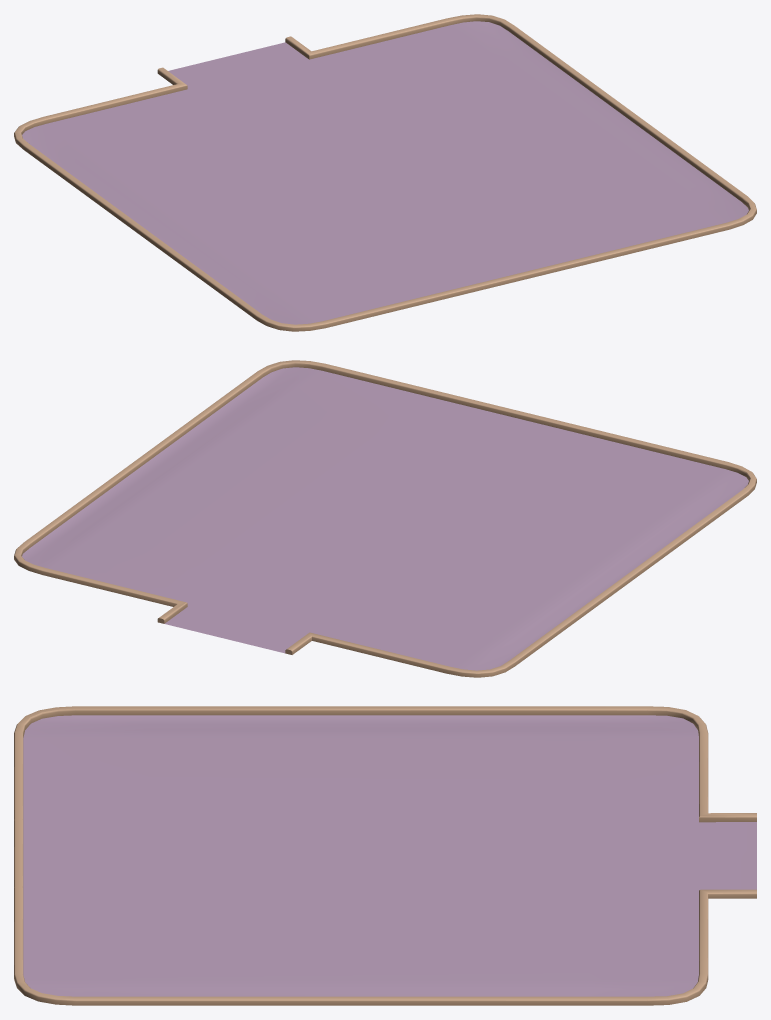
File: LuffyRoad_Stage_Large.fbx
3 views of the same model, one above another, from view 1: azimuth 30°, elevation 25°; view 2: azimuth 150°, elevation 25°; view 3: azimuth 270°, elevation 25° (orthographic). The views are drawn at different scales.
Visible parts, largest first — view 1: LUFFY_Road_stage_large4, LUFFY_Road_stage_large1; view 2: LUFFY_Road_stage_large4, LUFFY_Road_stage_large1; view 3: LUFFY_Road_stage_large4, LUFFY_Road_stage_large1.
Part boxes in pixels (x1,y1,x2,y2): LUFFY_Road_stage_large4: (22, 21, 748, 324); LUFFY_Road_stage_large1: (14, 14, 756, 331); LUFFY_Road_stage_large4: (22, 367, 748, 670); LUFFY_Road_stage_large1: (14, 360, 756, 677); LUFFY_Road_stage_large4: (23, 715, 756, 996); LUFFY_Road_stage_large1: (14, 706, 756, 1005).
Size of the model in its own units: 2191 by 30.41 by 2338.
